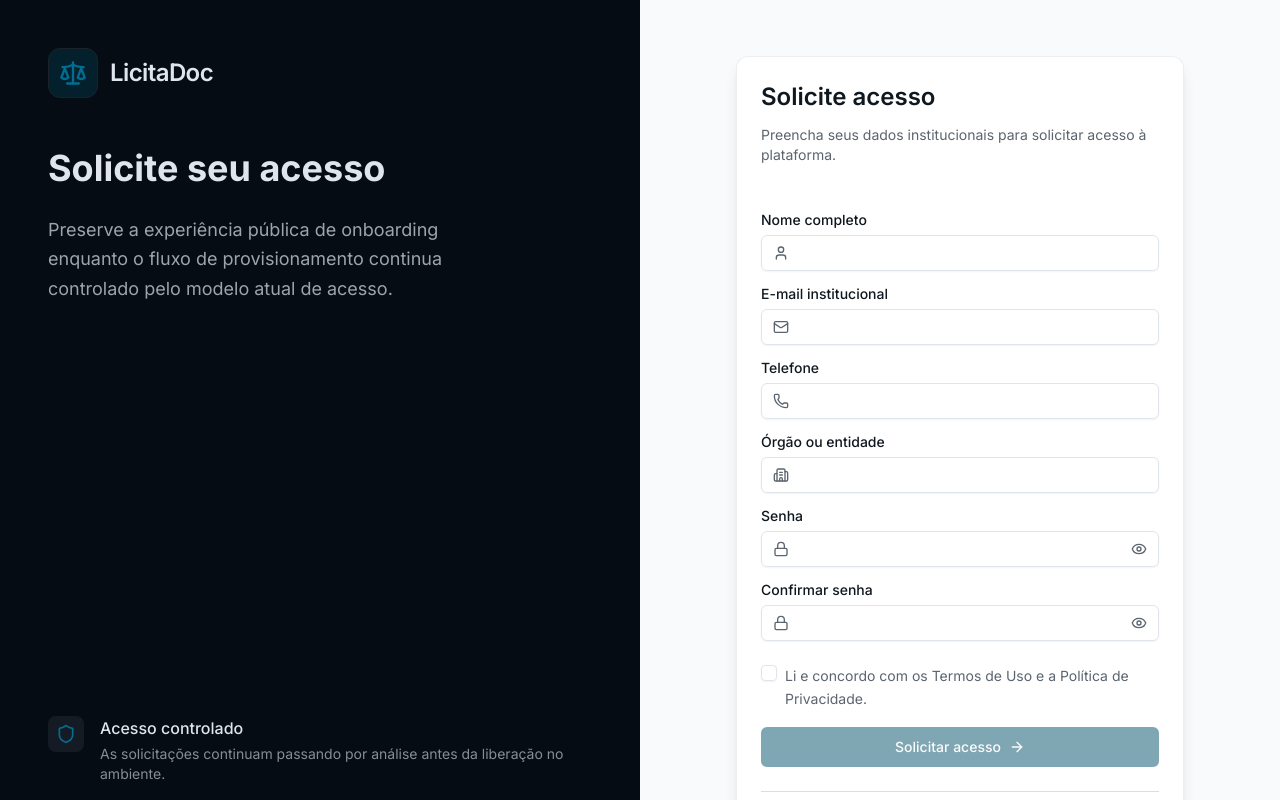
Test: RequestAccessPage › shows the acknowledgement state after submission
Type "Maria Silva" into the field labelled "Nome completo".
click(960, 253); type("Maria Silva")  # box [761,235,1159,271]
Type "maria@licitadoc.test" into the field labelled "E-mail institucional".
click(960, 327); type("maria@licitadoc.test")  # box [761,309,1159,345]
Type "11999999999" into the field labelled "Telefone".
click(960, 401); type("11999999999")  # box [761,383,1159,419]
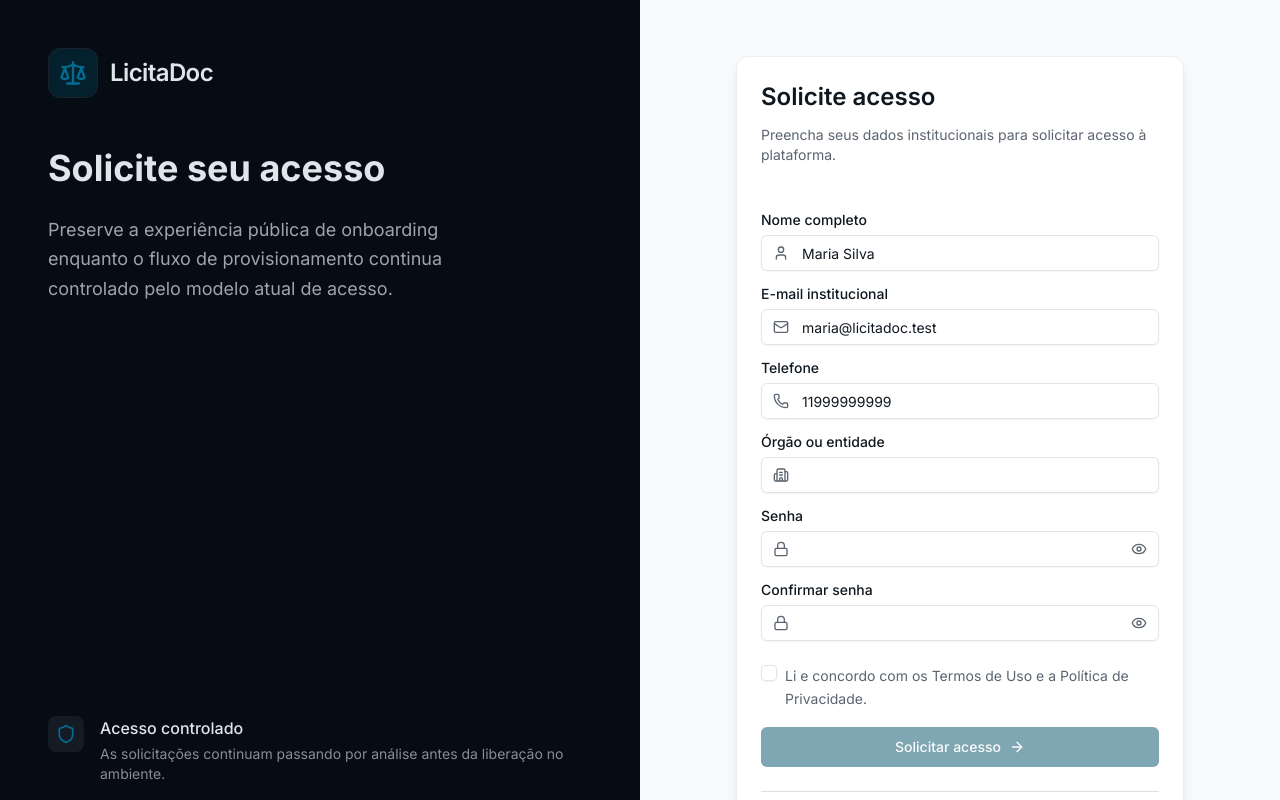
Type "Secretaria de Administração" into the field labelled "Órgão ou entidade".
click(960, 475); type("Secretaria de Administração")  # box [761,457,1159,493]
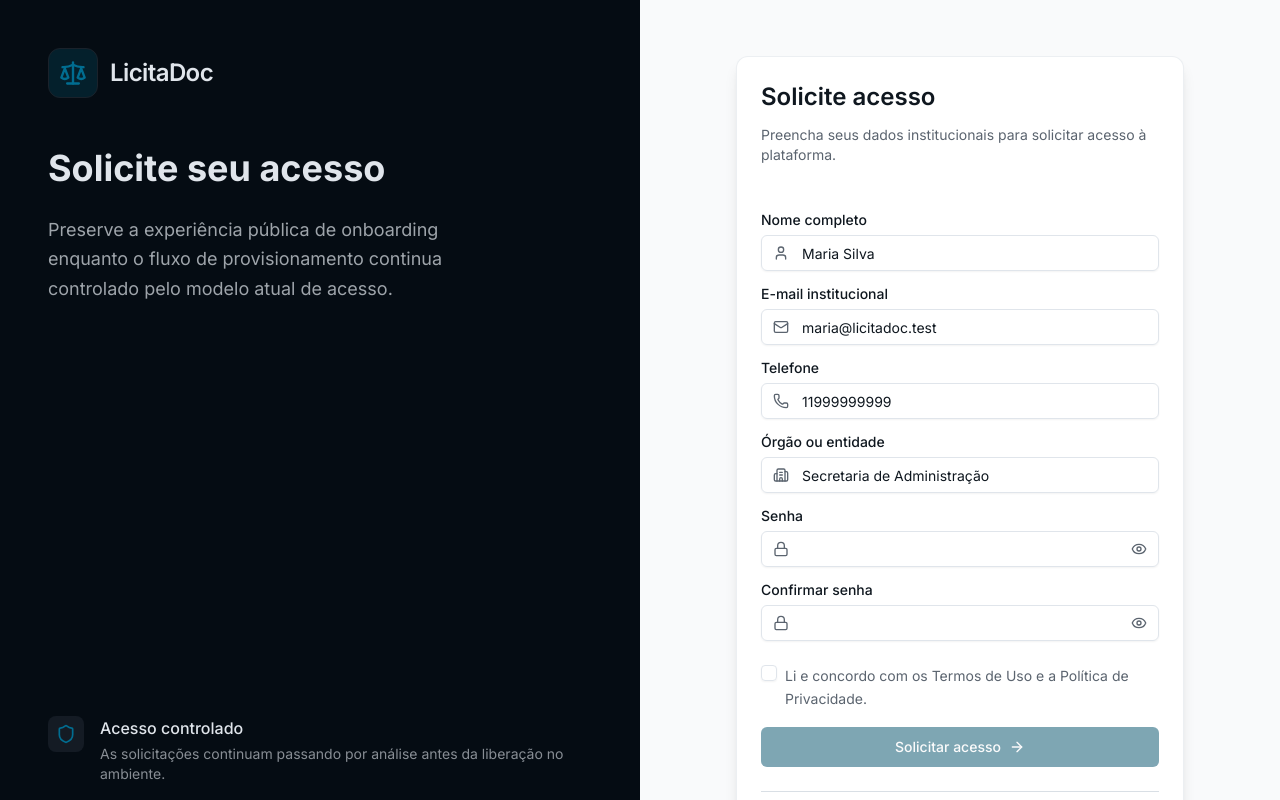
Type "senha-segura" into the password field labelled "Senha".
click(960, 549); type("senha-segura")  # box [761,531,1159,567]
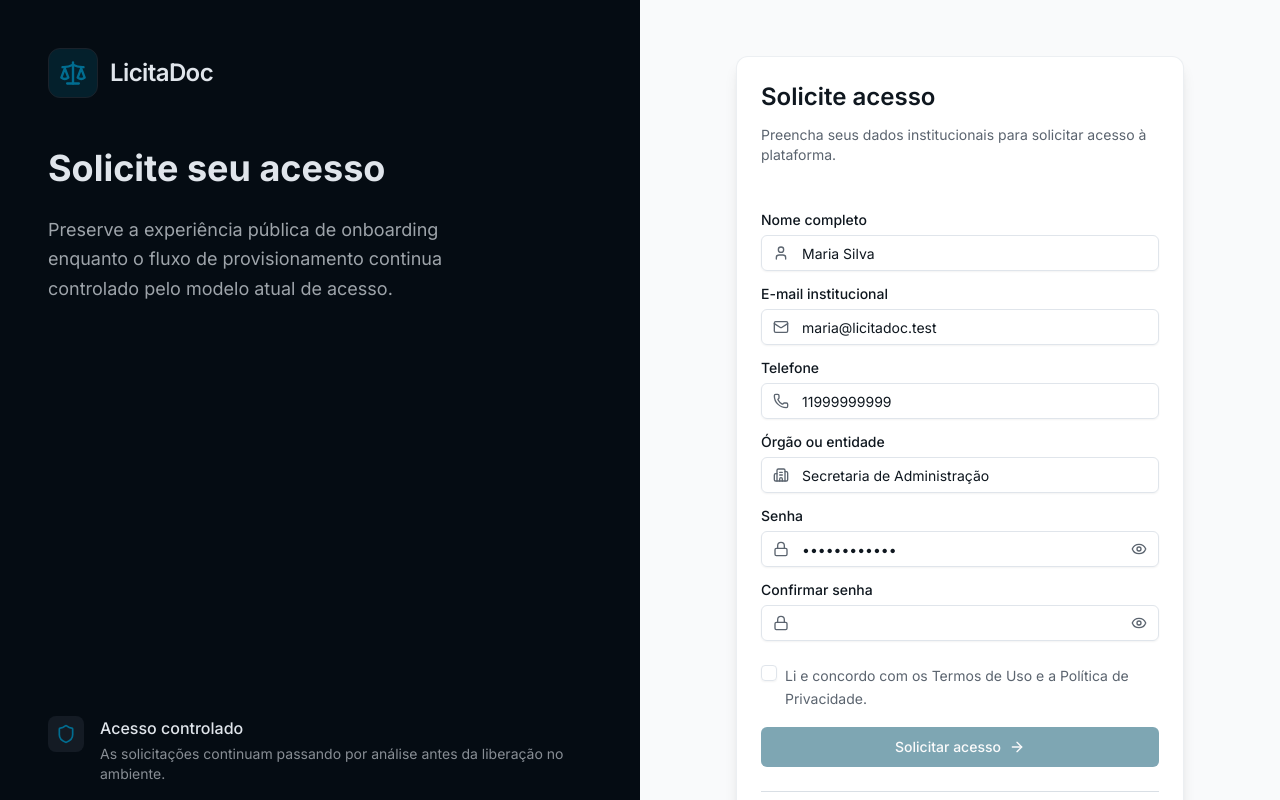
Type "senha-segura" into the password field labelled "Confirmar senha".
click(960, 623); type("senha-segura")  # box [761,605,1159,641]
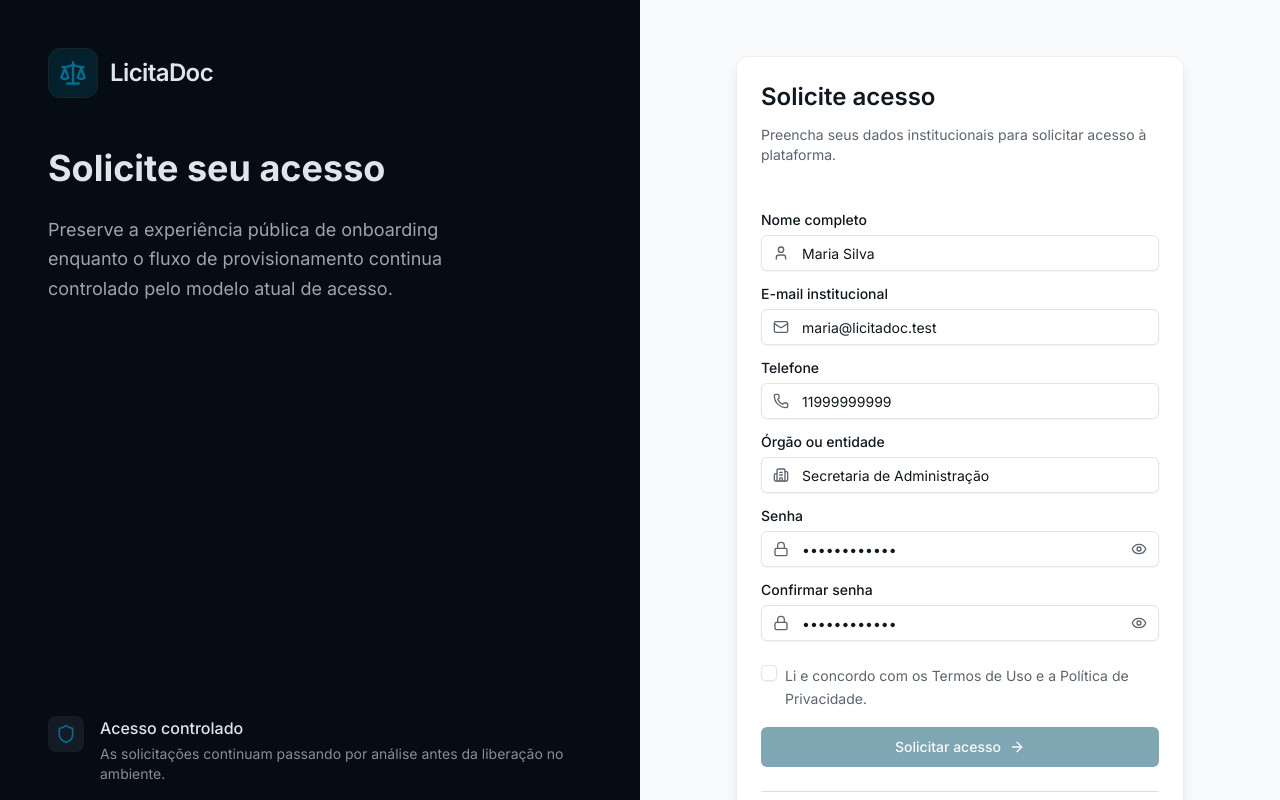
Click the checkbox named "Li e concordo".
click(769, 673)  # box [761,665,777,681]
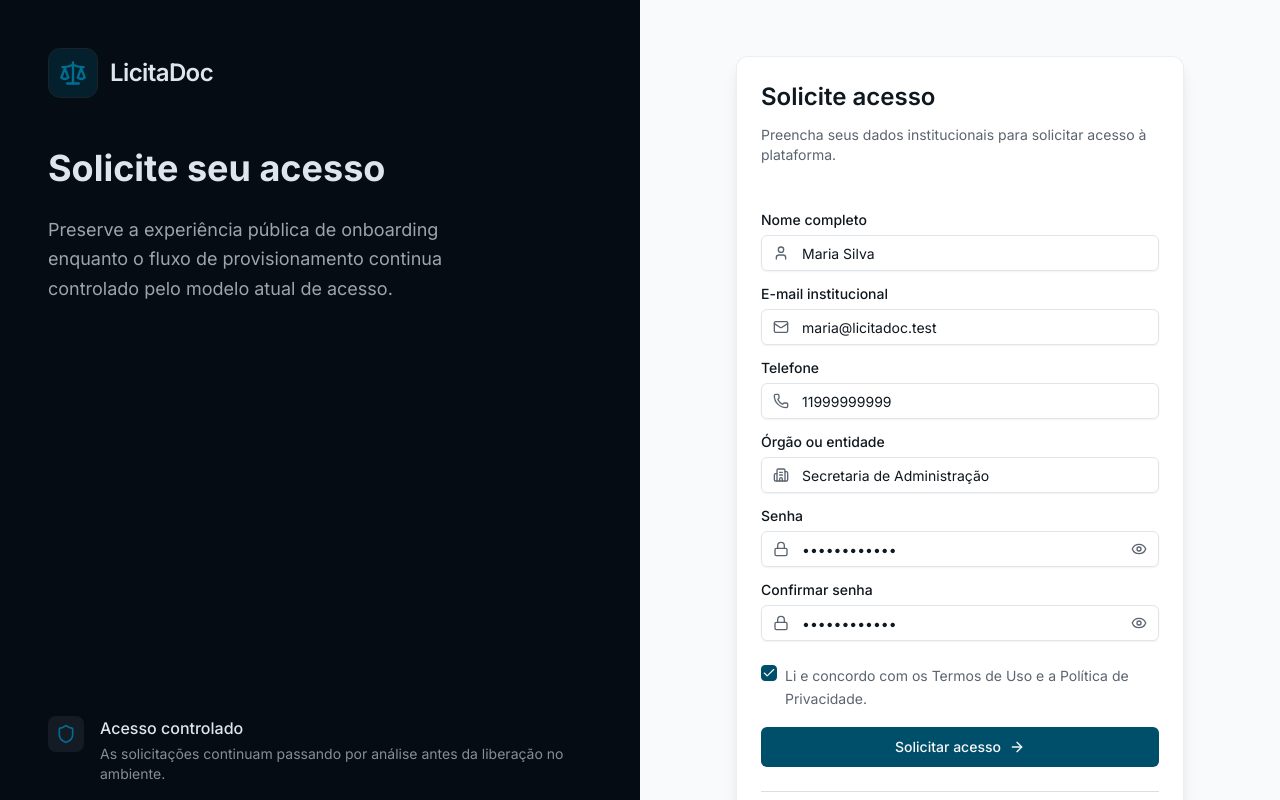
Click the button "Solicitar acesso".
click(960, 746)  # box [761,726,1159,766]
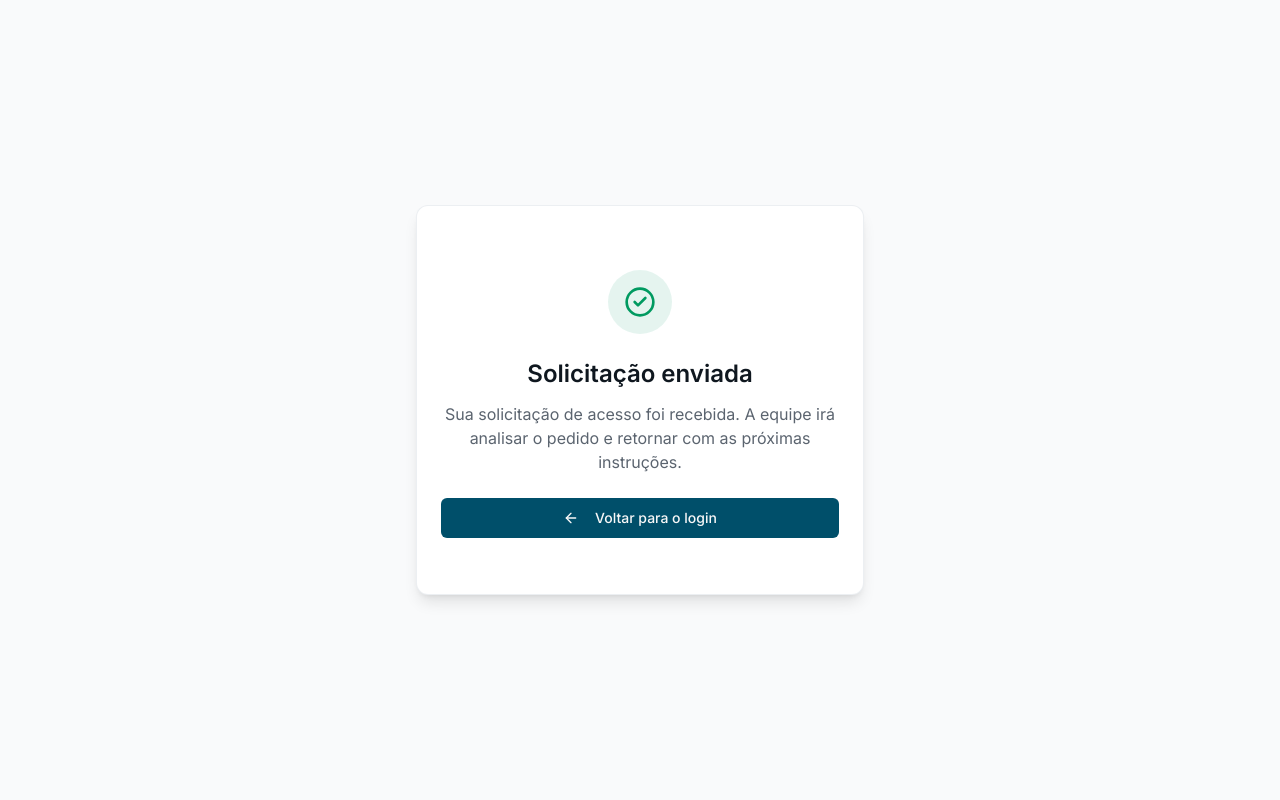
Now the heading "Solicitação enviada" is shown, box [527,359,753,388]
